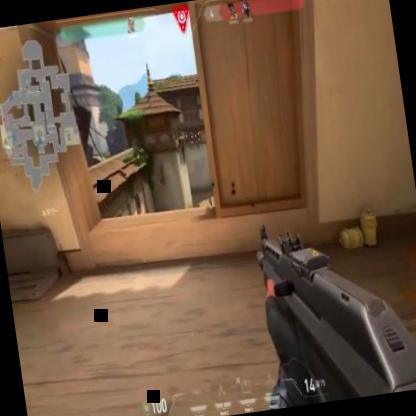enemy: (207, 190, 212, 206)
enemy_head: (208, 191, 210, 196)
